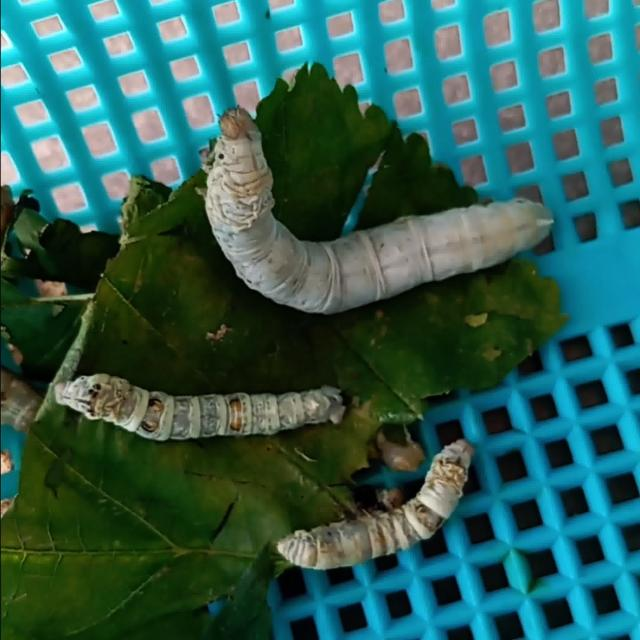Grasserie: (175, 83, 589, 335), (204, 433, 486, 579), (24, 348, 378, 450)
